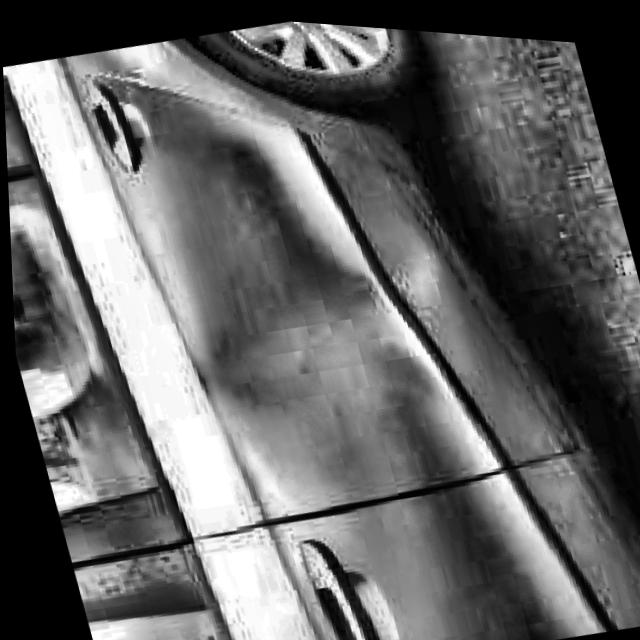door_dent: (159, 177, 482, 465)
